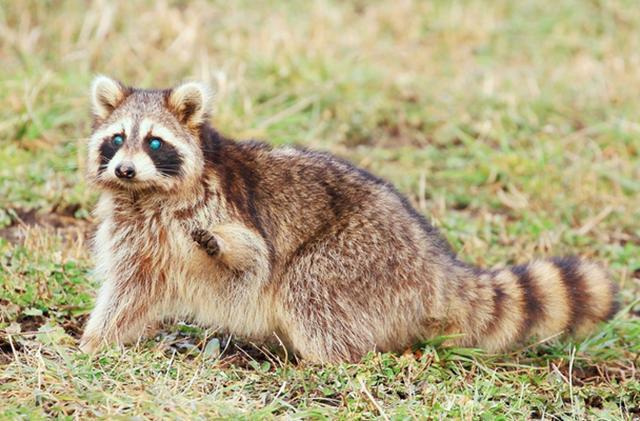raccoon: (75, 73, 620, 372)
